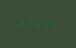five: (42, 20, 49, 28)
seven: (26, 19, 33, 27)
six: (34, 19, 41, 28), (50, 20, 57, 28)
two: (18, 19, 25, 27)
